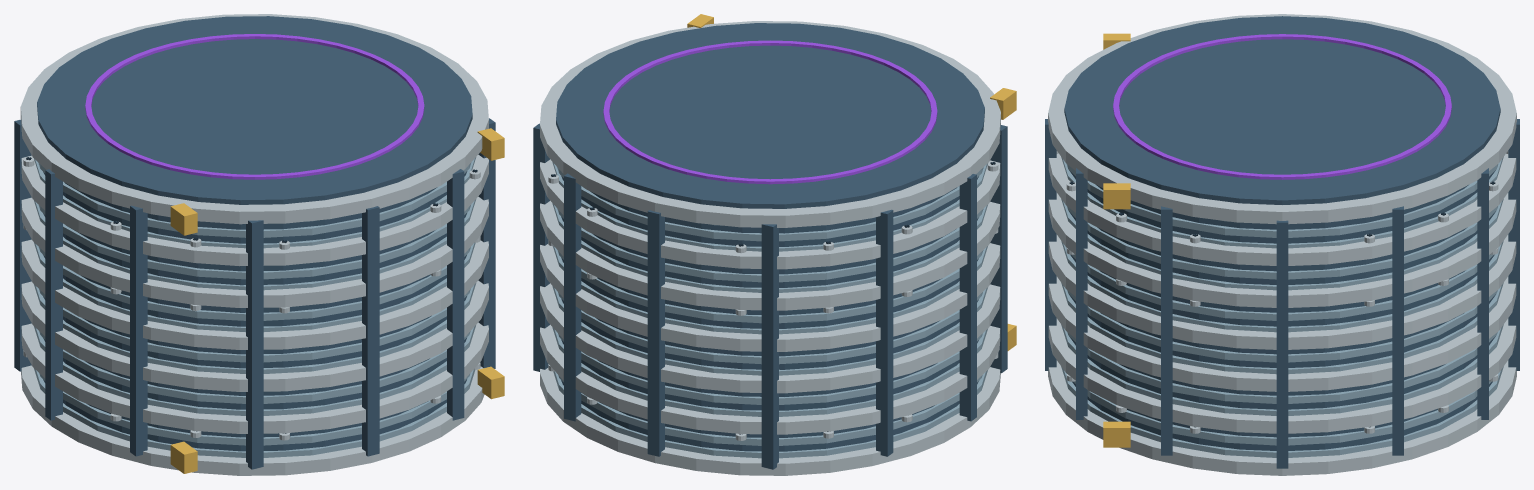
Rendered from 22_L74_ProjectionOpticsLensBarrel.fbx.
3 renders of one model, left to right at view 1: azimuth 30°, elevation 25°; view 2: azimuth 150°, elevation 25°; view 3: azimuth 270°, elevation 25°, orthographic.
Parts seen in each view (by area): view 1: ProjectionOpticsLensBarrel; view 2: ProjectionOpticsLensBarrel; view 3: ProjectionOpticsLensBarrel.
Part boxes in pixels (x1,y1,x2,y2): ProjectionOpticsLensBarrel: [14, 14, 504, 475]; ProjectionOpticsLensBarrel: [533, 14, 1016, 475]; ProjectionOpticsLensBarrel: [1045, 14, 1519, 475].
Size of the model in its own units: 245 by 156 by 244.
